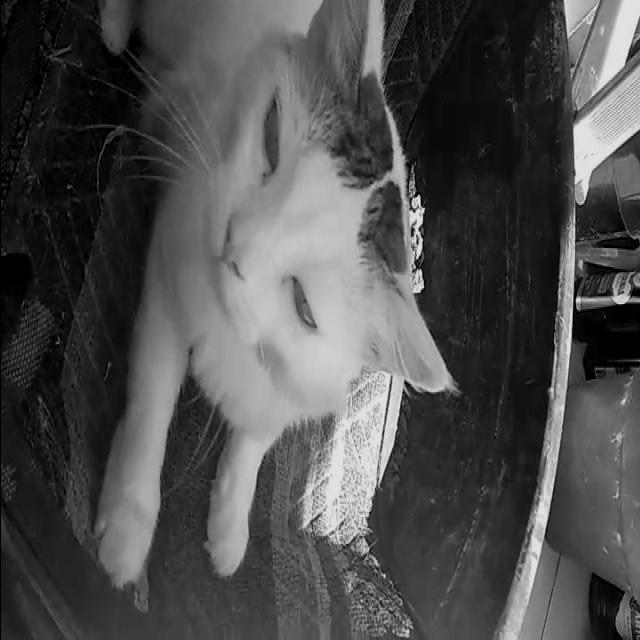Simba: (91, 5, 469, 592)
